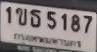letters: (15, 8, 28, 26), (46, 10, 57, 30), (30, 9, 41, 28), (83, 15, 92, 34), (71, 15, 81, 32), (6, 7, 12, 24), (61, 14, 67, 31)
province: (14, 33, 82, 48)
